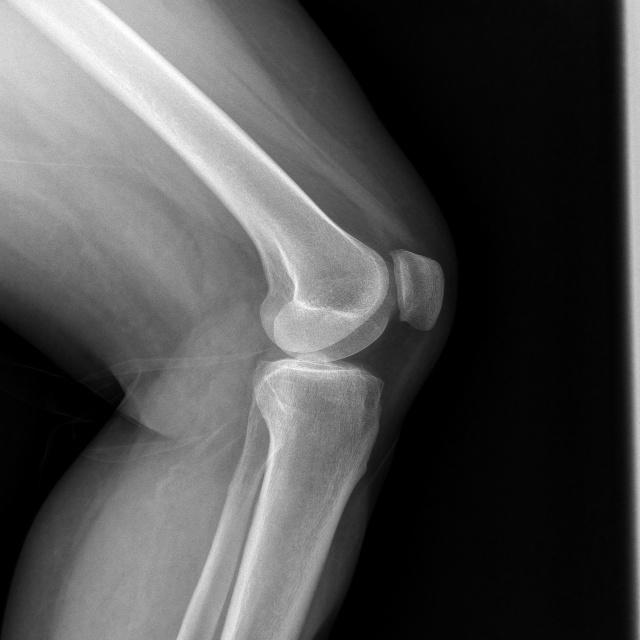Knee: (247, 243, 445, 418)
